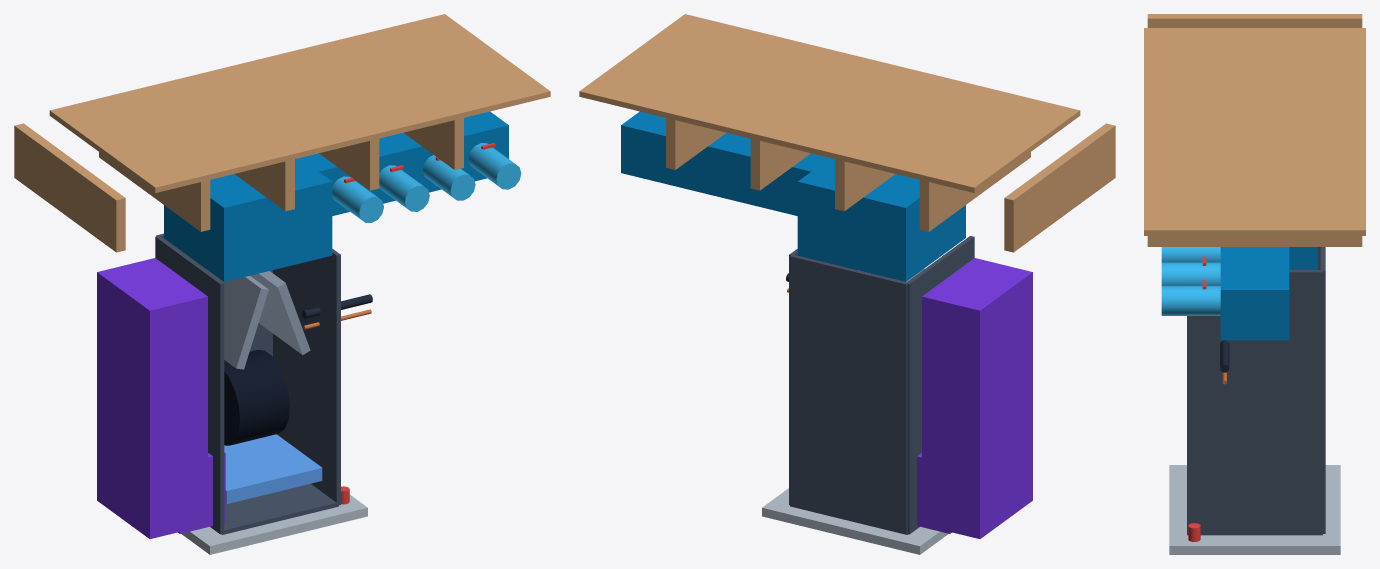
The model's file is assembly-air-handler-joist-cutaway.glb.
3 renders of one model, left to right at view 1: azimuth 30°, elevation 25°; view 2: azimuth 150°, elevation 25°; view 3: azimuth 270°, elevation 25°, orthographic. The views are drawn at different scales.
Visible parts, largest first — view 1: hvac-air-handler-cutaway-joist-bay-cutaway; view 2: hvac-air-handler-cutaway-joist-bay-cutaway; view 3: hvac-air-handler-cutaway-joist-bay-cutaway.
Boxes of the visible parts, box(x1,y1,x2,y2) form: hvac-air-handler-cutaway-joist-bay-cutaway: box(14, 14, 550, 554); hvac-air-handler-cutaway-joist-bay-cutaway: box(579, 14, 1115, 554); hvac-air-handler-cutaway-joist-bay-cutaway: box(1144, 14, 1365, 554).
Size of the model in its own units: 2.08 by 1.8 by 0.88.
